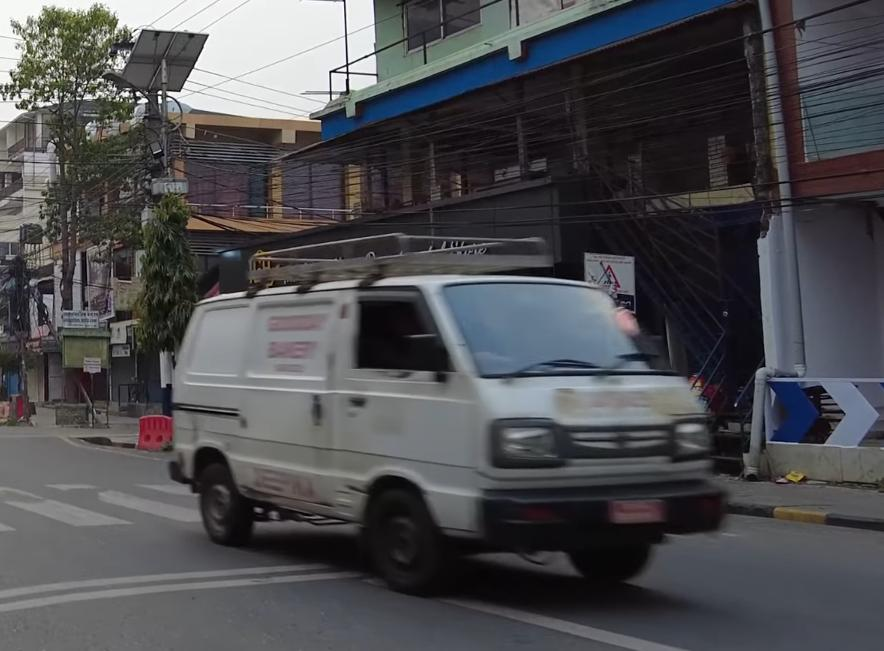van: (159, 223, 735, 604)
